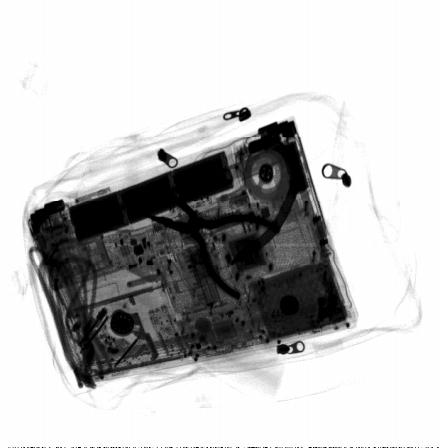Pliers: (141, 185, 280, 302)
